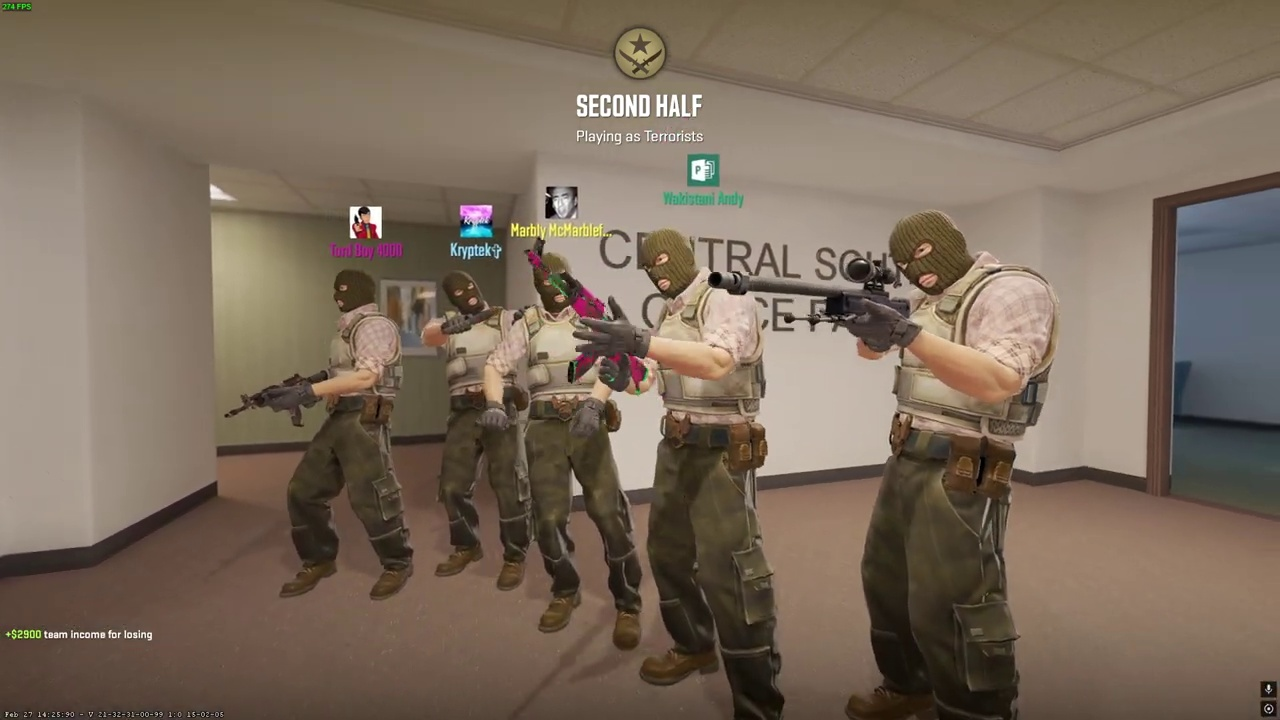Terrorist: (832, 209, 1066, 720), (621, 228, 790, 720), (505, 251, 654, 656), (264, 263, 424, 607), (418, 266, 534, 594)
